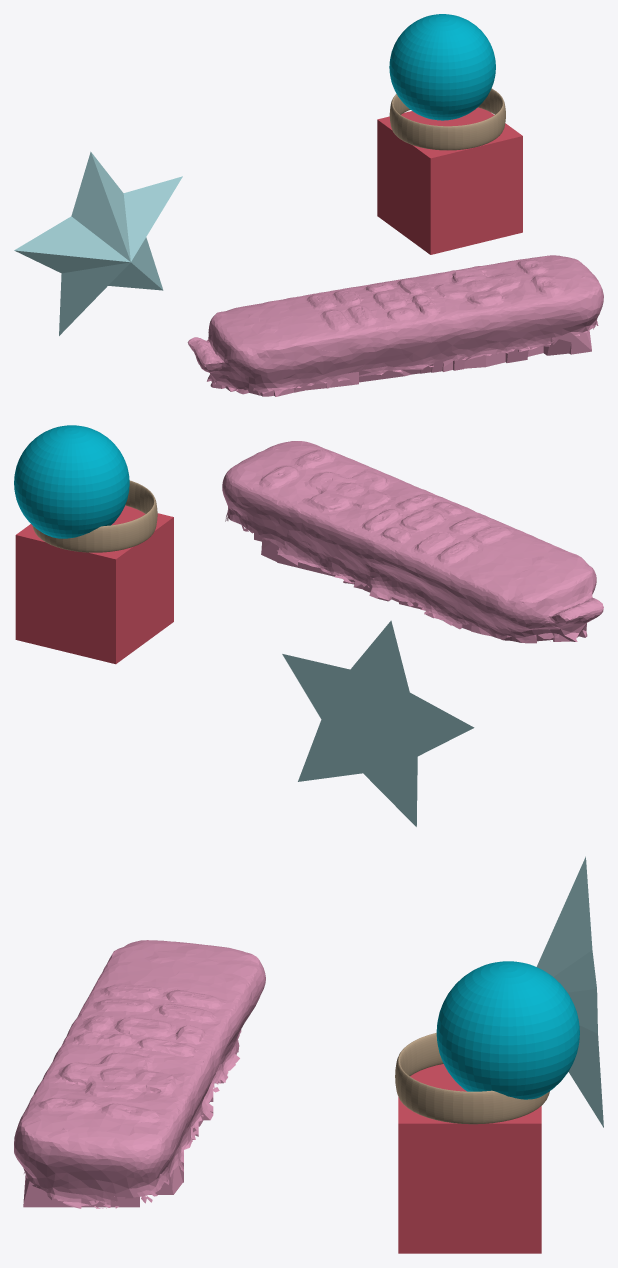
File: tinker_remote.glb
3 renders of one model, top to bottom at view 1: azimuth 30°, elevation 25°; view 2: azimuth 150°, elevation 25°; view 3: azimuth 270°, elevation 25°, orthographic. The views are drawn at different scales.
Visible parts, largest first — view 1: Mesh_Mesh_head_geo.001_lambert2SG.001; view 2: Mesh_Mesh_head_geo.001_lambert2SG.001; view 3: Mesh_Mesh_head_geo.001_lambert2SG.001.
Part boxes in pixels (x1,y1,x2,y2): Mesh_Mesh_head_geo.001_lambert2SG.001: [14, 14, 603, 396]; Mesh_Mesh_head_geo.001_lambert2SG.001: [14, 425, 603, 826]; Mesh_Mesh_head_geo.001_lambert2SG.001: [14, 856, 603, 1253].
Bounding box in the file's own units: 0.0966 × 0.053 × 0.0823.
